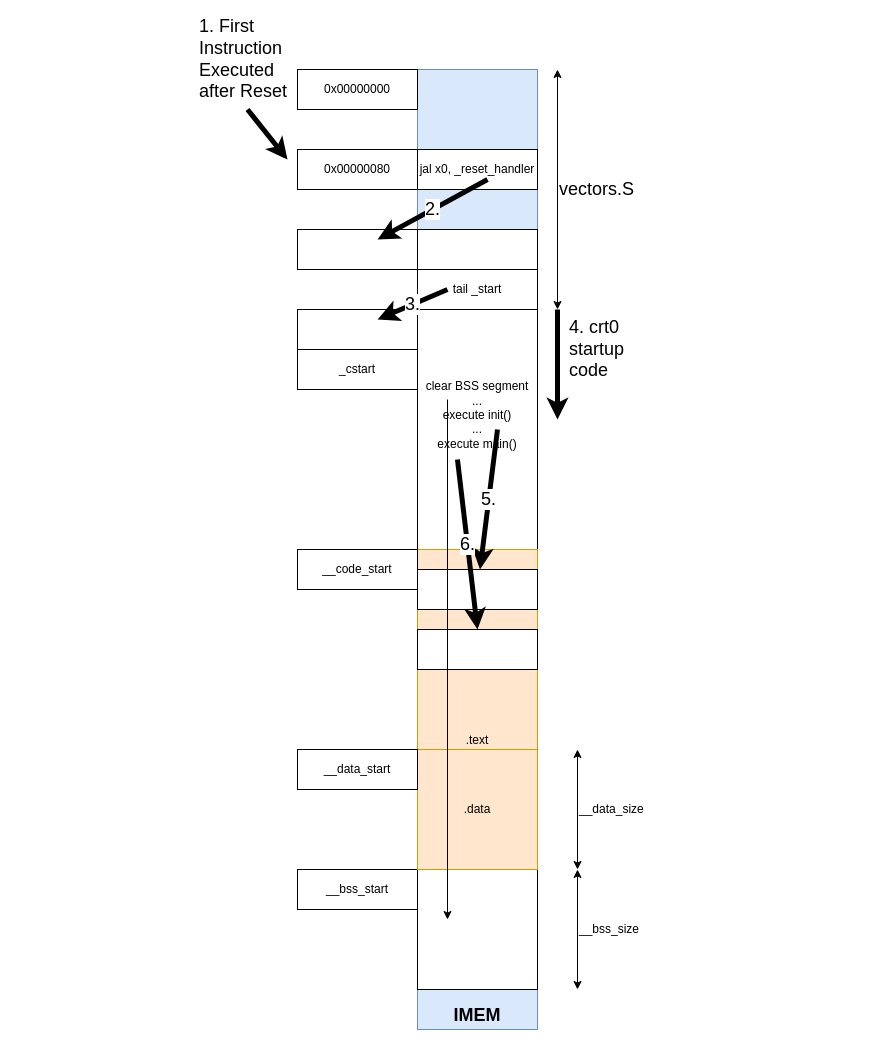
The diagram is 874 pixels wide and 1048 high, and some of its shapes have lost their labels. Each missing label, with the centre of its shape:
.tbss .bss: the point at 477,929
_reset_handler: the point at 357,249
_start: the point at 357,329
init(): the point at 477,589
main(): the point at 477,649
set all regs to 0: the point at 477,249
